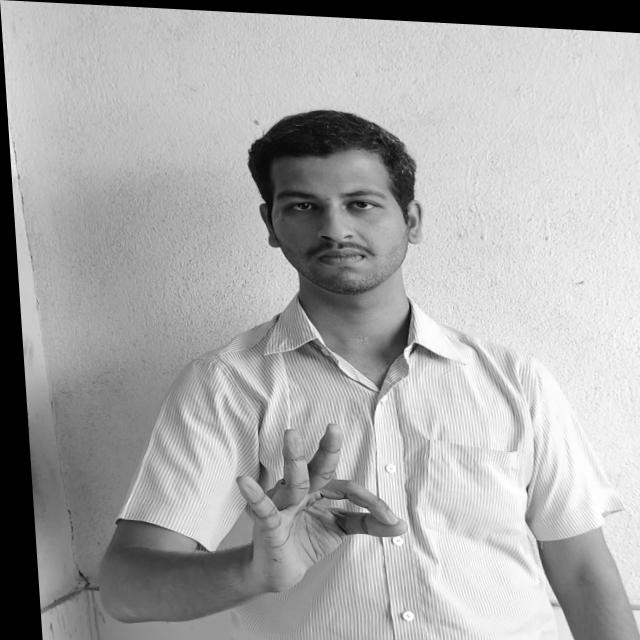Superb: (225, 416, 407, 593)
